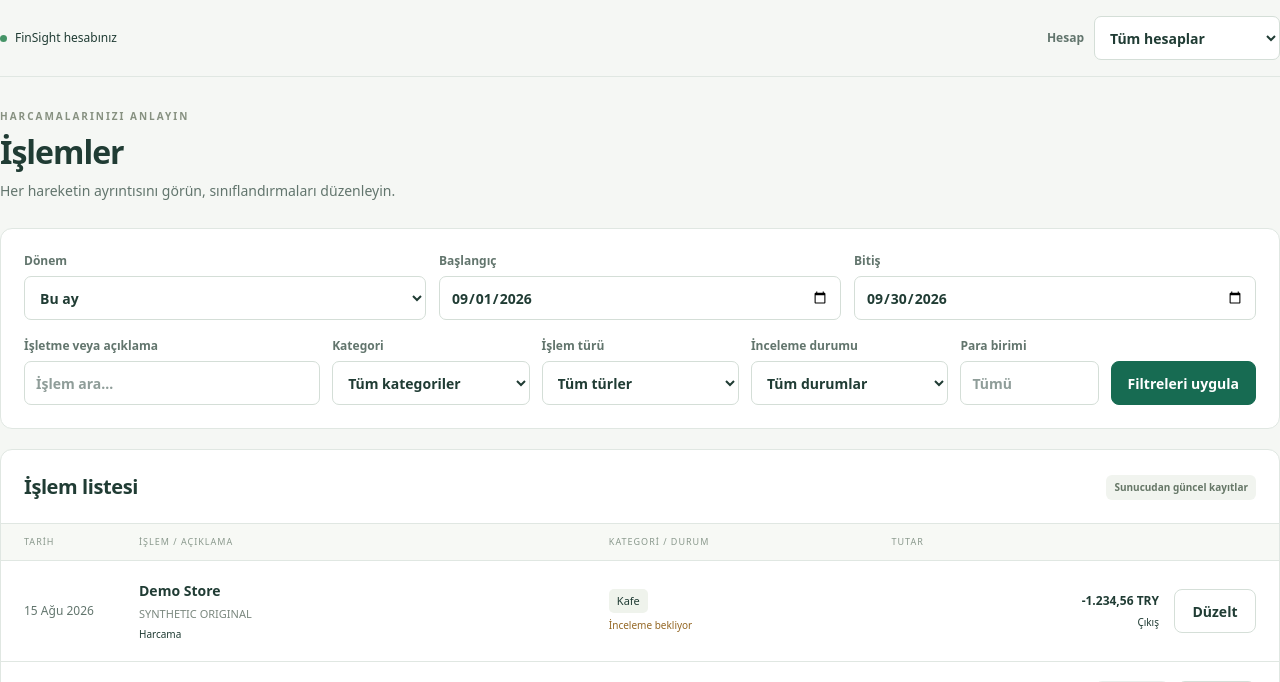
Test: transactions and corrections › cancelling correction does not send a mutation or report a successful update
This screenshot has width=1280, height=682.
Click the button with aria-label "Demo Store sınıflandırmasını düzelt" at (1215, 611), box [1174, 589, 1256, 633]
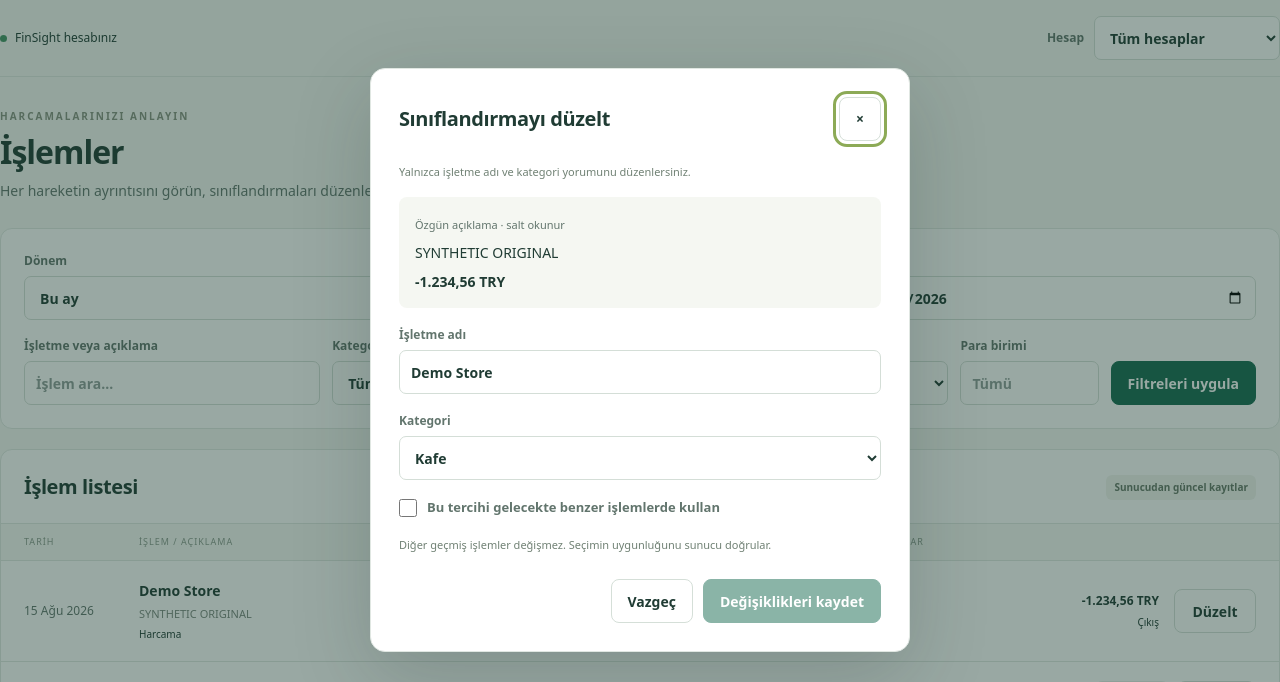
Click the button "Vazgeç" at (652, 601), box [610, 579, 693, 623]
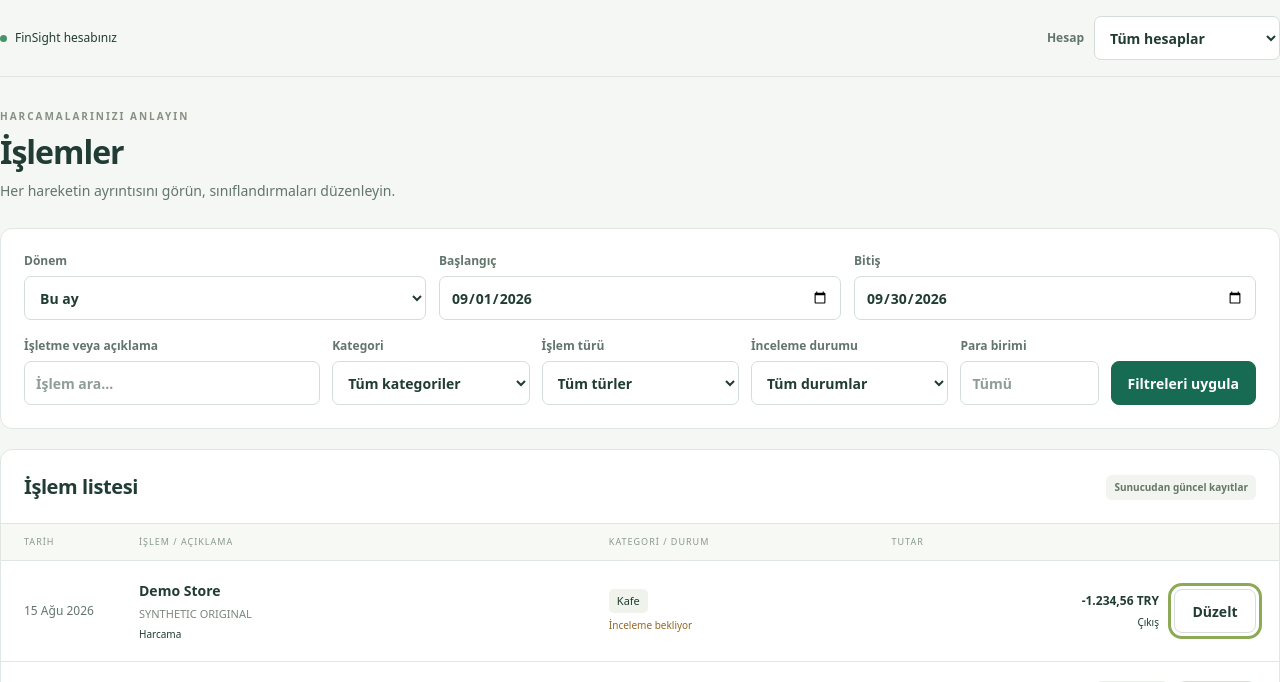
Check: the dialog is gone
